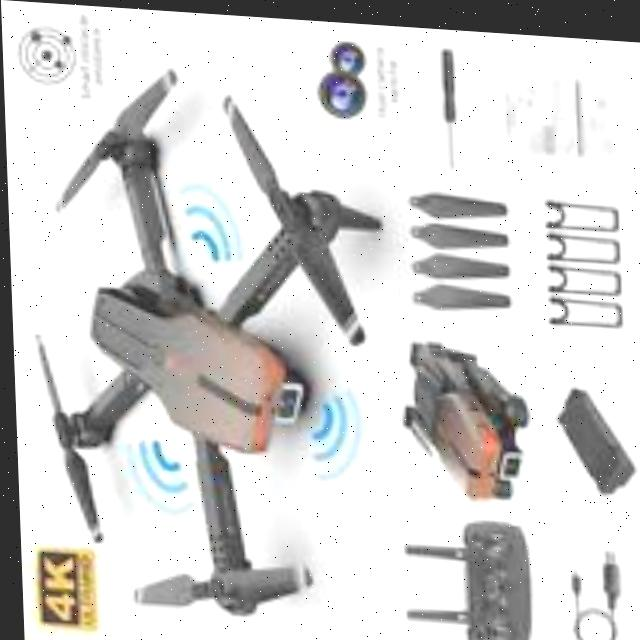drone: (26, 74, 400, 640)
